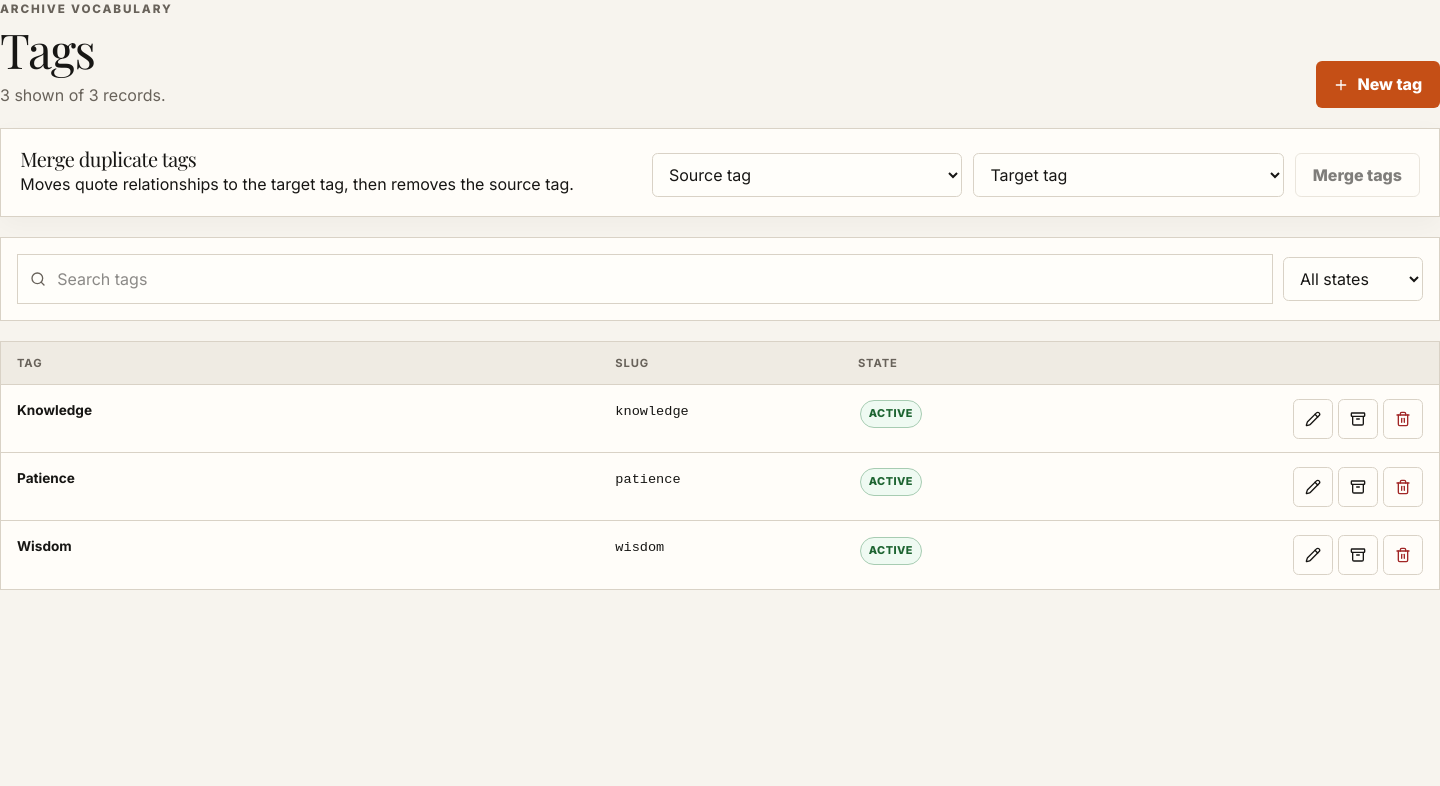
admin taxonomy forms › announces server validation, associates errors, focuses the field and clears errors on editing or cancellation
Click the button named "Edit Knowledge": (1313, 419) [1293, 399, 1333, 439]
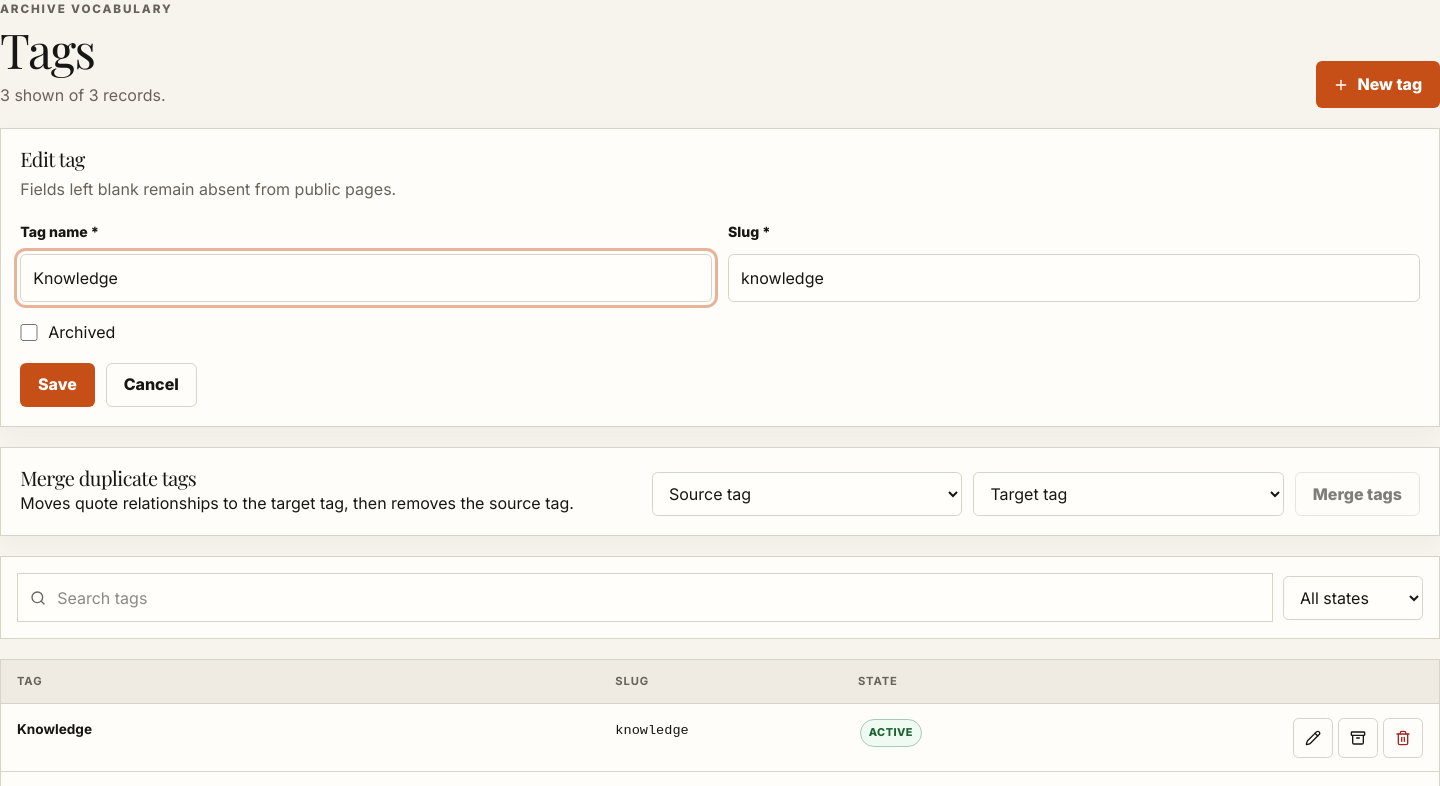
Submit the form "Tag name *", box [20, 148, 1420, 407]
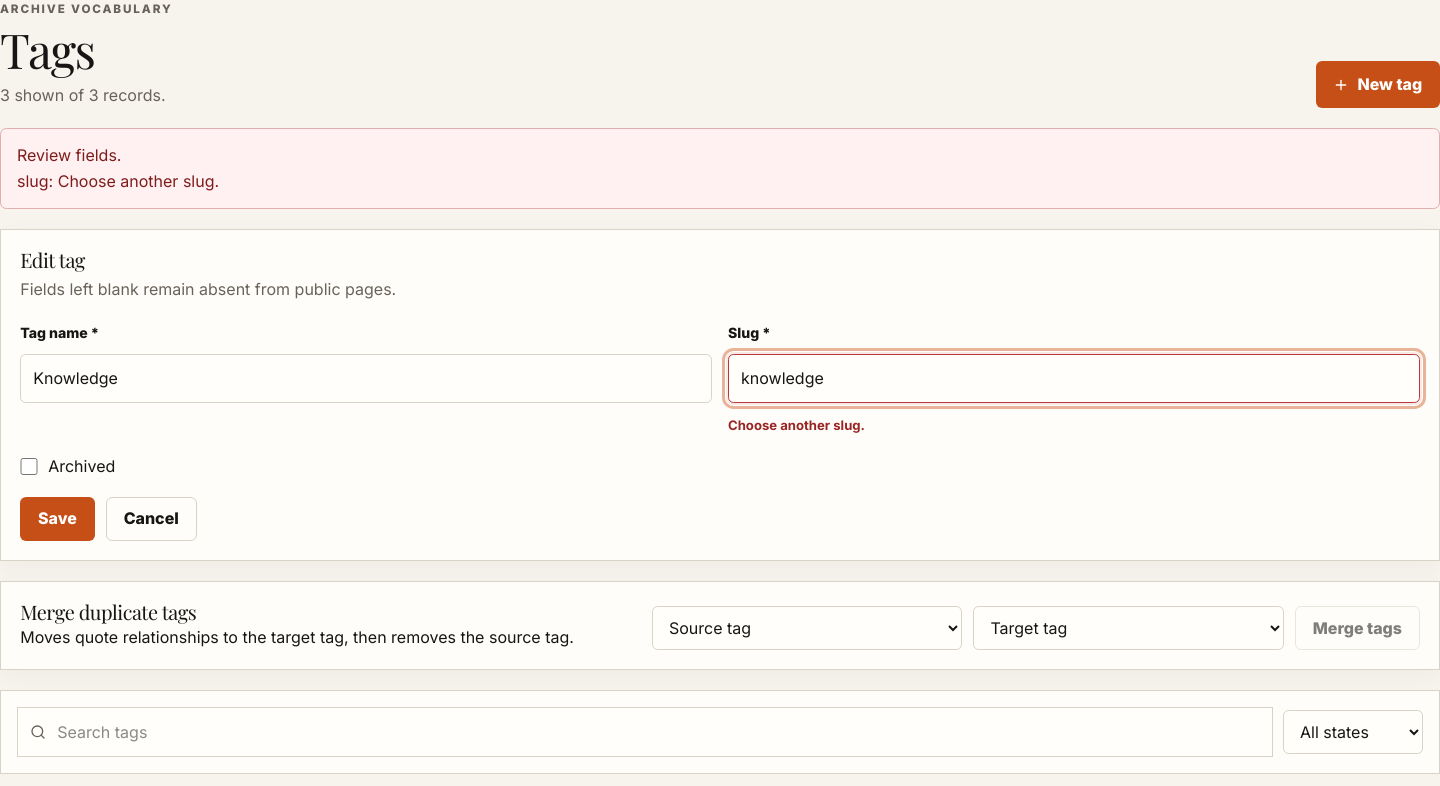
Result: the message "Review fields. slug: Choose another slug." is shown at [0, 128, 1439, 209]
Result: the text with id "slug-error" reads "Choose another slug." at [728, 416, 865, 432]
Replace the text in the field labelled "Slug *" with "fixed": (1074, 378) [728, 354, 1420, 403]
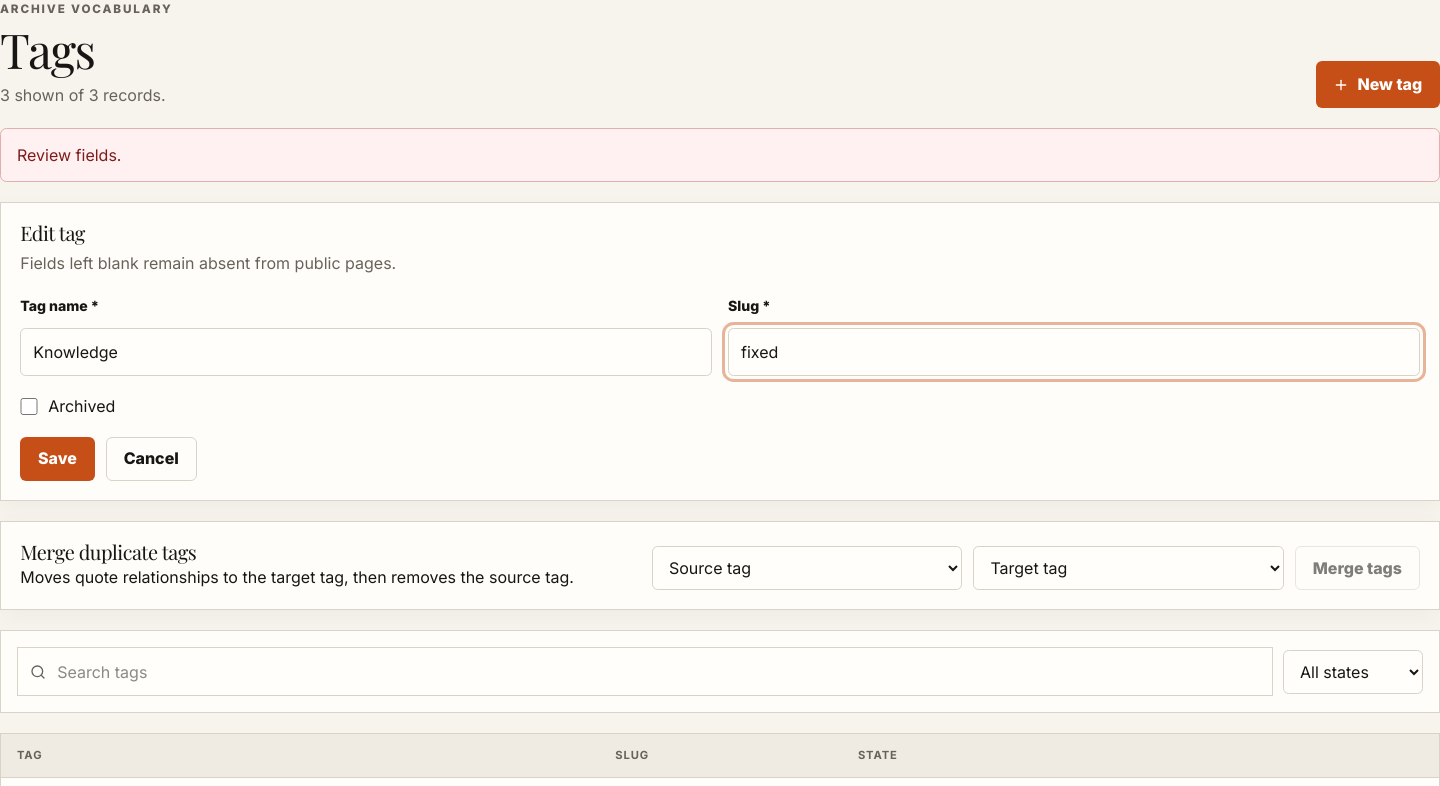
Result: the field labelled "Slug *" is not marked as invalid at [728, 328, 1420, 376]
Click the button "Cancel": (151, 459) [106, 437, 196, 481]
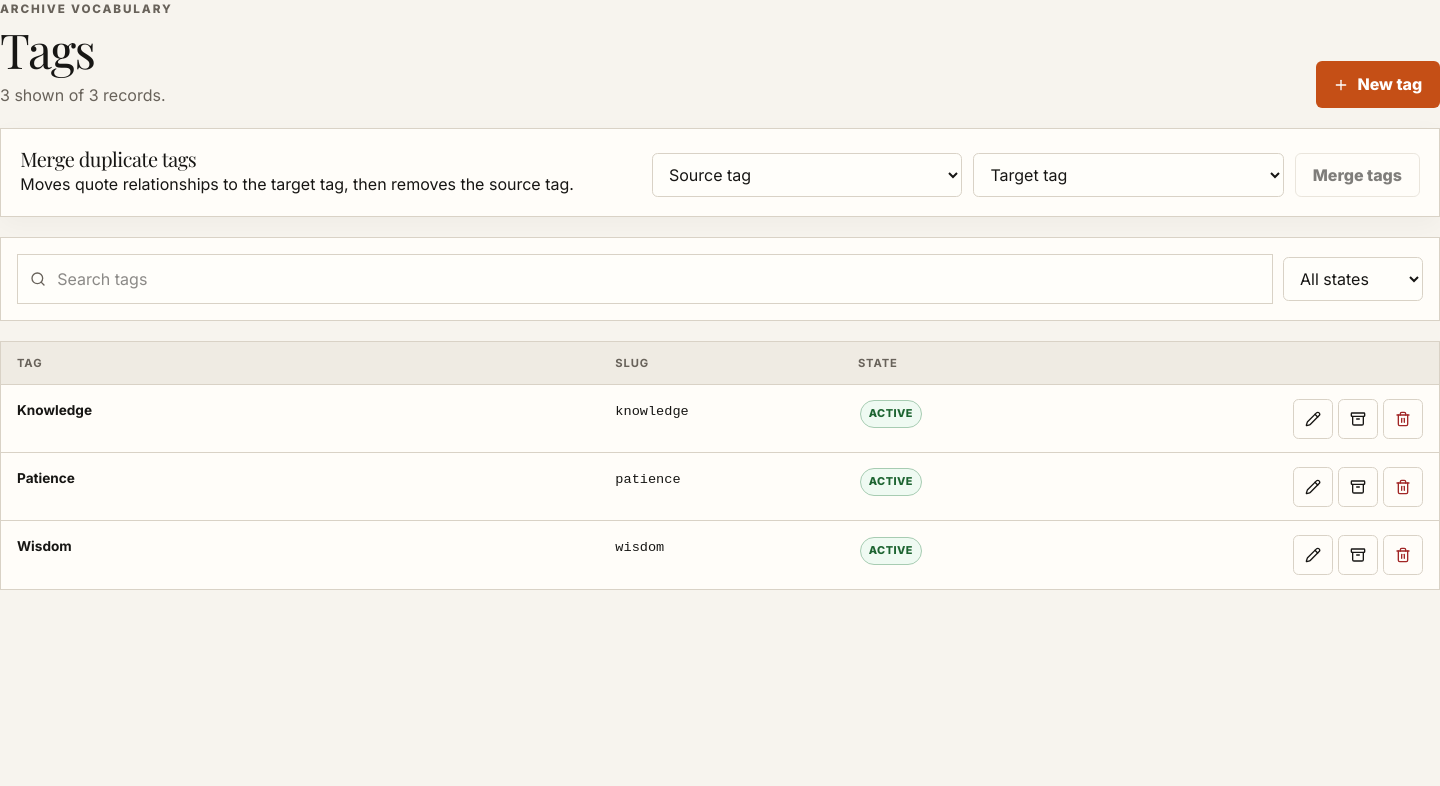
Result: the message "Review fields." is gone
